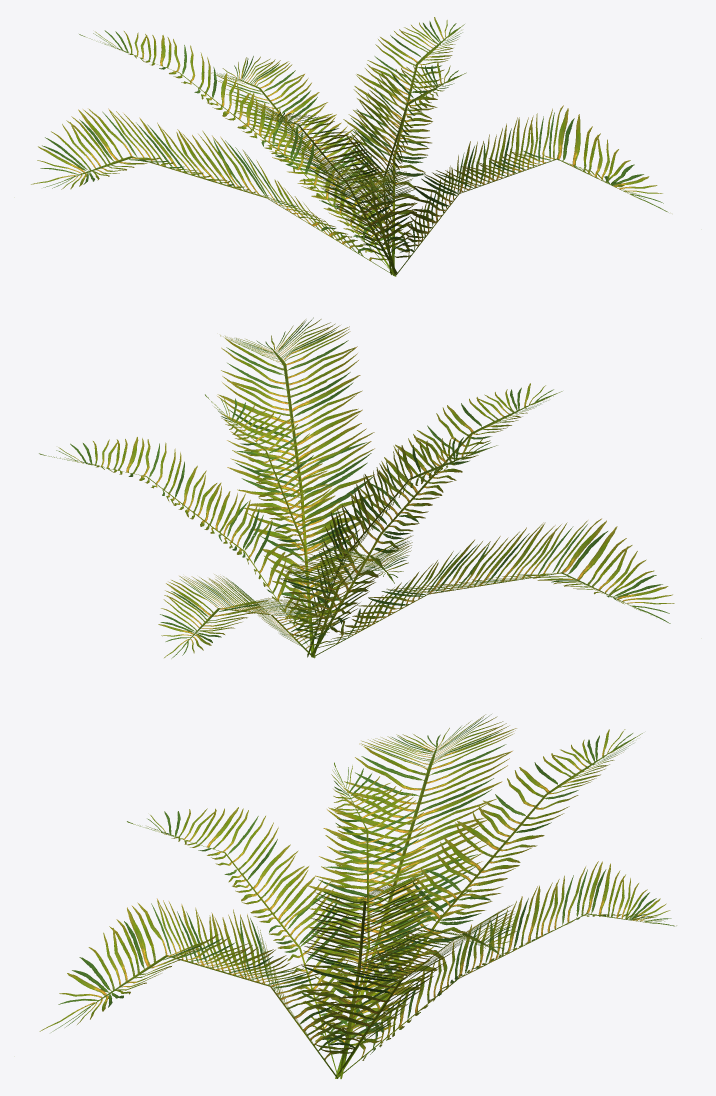
Rendered from SM_Fern_01a.fbx.
The picture shows the model from 3 angles, top to bottom: view 1: azimuth 30°, elevation 25°; view 2: azimuth 150°, elevation 25°; view 3: azimuth 270°, elevation 25°; orthographic projection. The views are drawn at different scales.
Visible parts, largest first — view 1: SM_Fern_01a_LOD0; view 2: SM_Fern_01a_LOD0; view 3: SM_Fern_01a_LOD0.
Boxes of the visible parts, left/top/right/bottom form: SM_Fern_01a_LOD0: left=31, top=17, right=668, bottom=276; SM_Fern_01a_LOD0: left=39, top=317, right=674, bottom=658; SM_Fern_01a_LOD0: left=39, top=714, right=676, bottom=1078.
Size of the model in its own units: 314 by 304 by 119.
